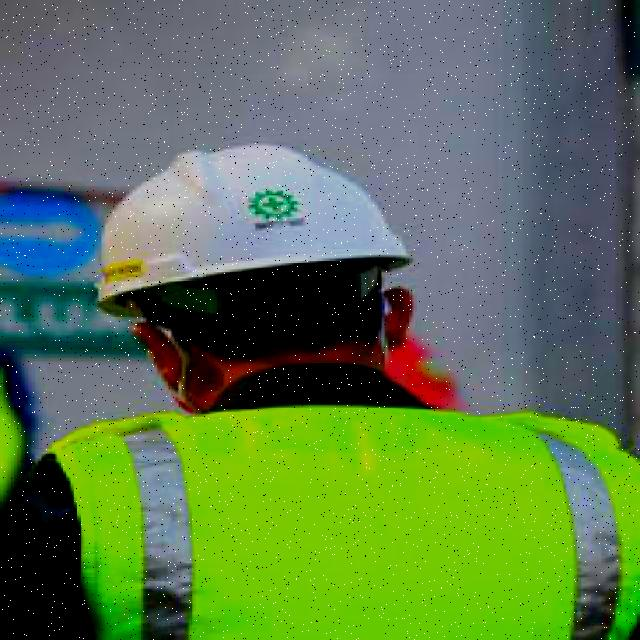Helmet: (29, 397, 640, 640)
Mask: (92, 140, 414, 308)
